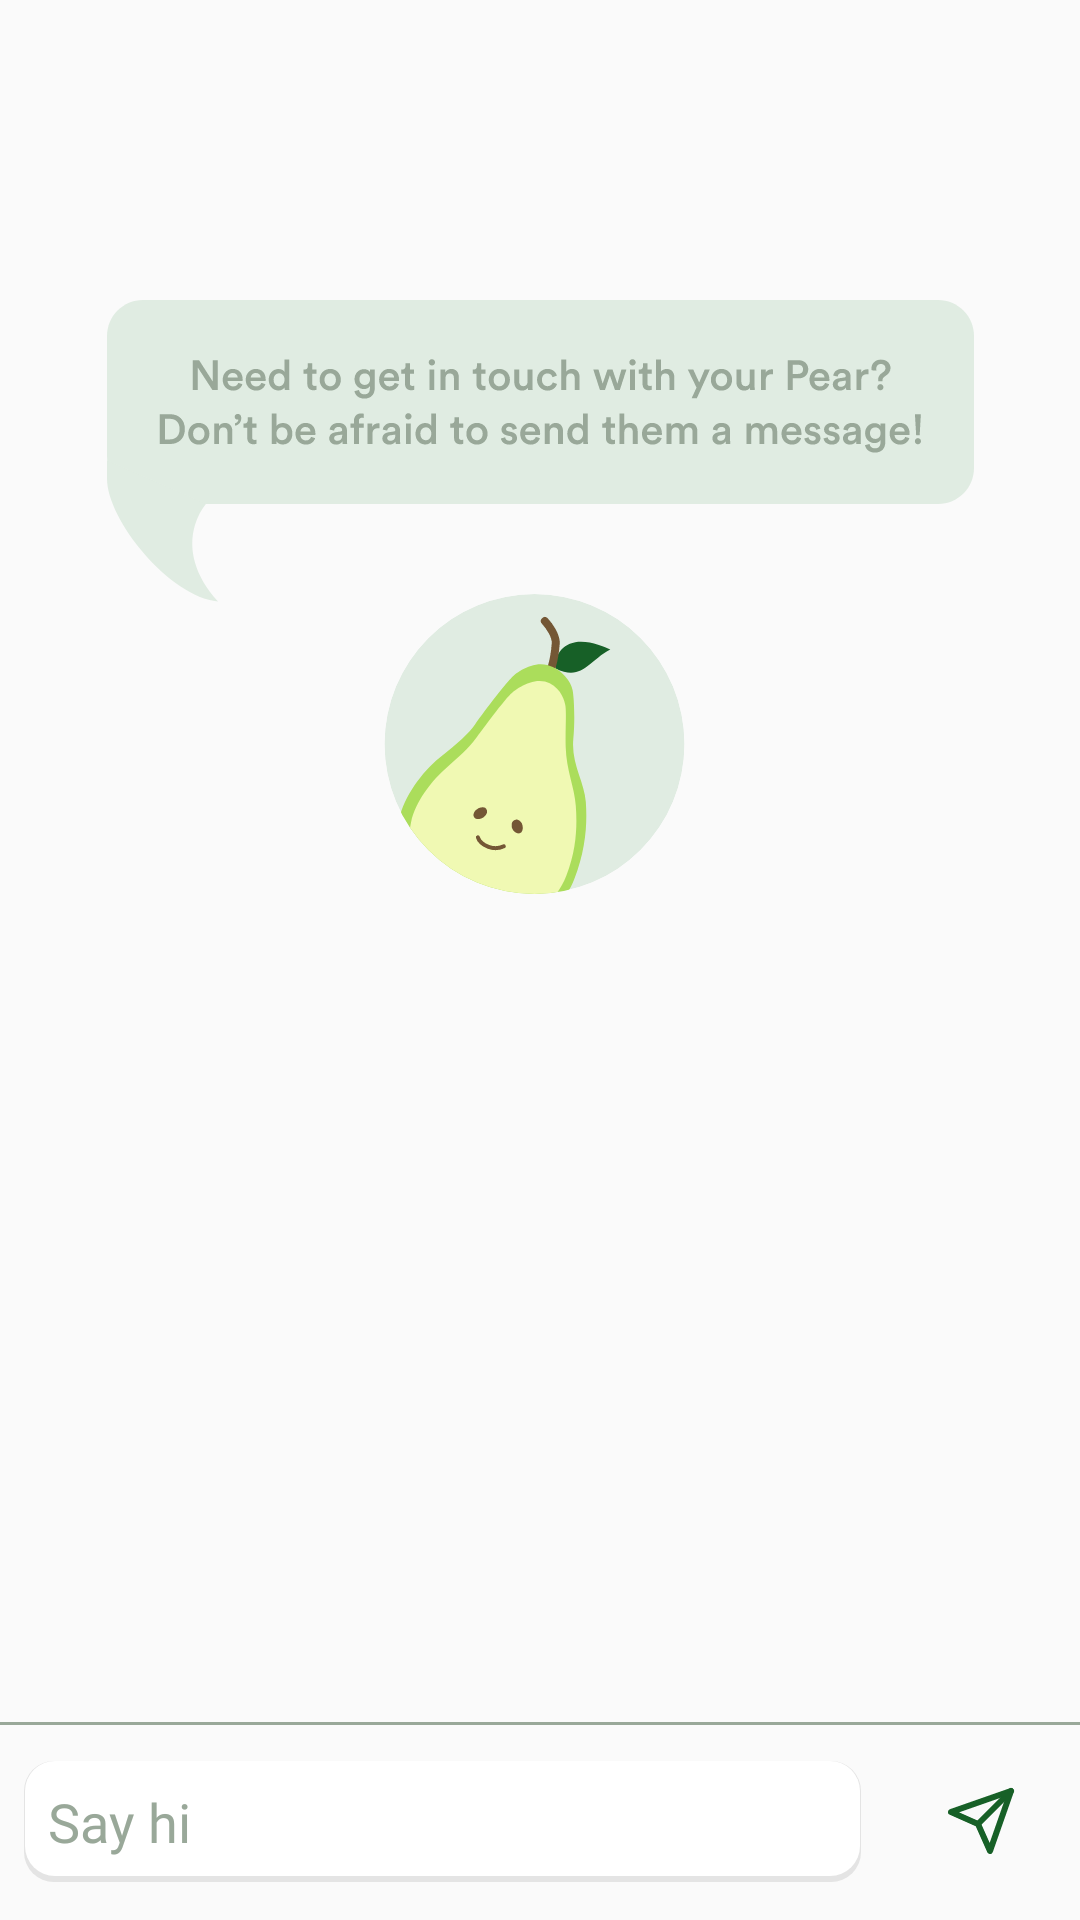

Named icons in this screenshot (1080 × 1920) and their bounding boxes, (x1, y1, x2, y2):
send: (948, 1788, 1014, 1854)
